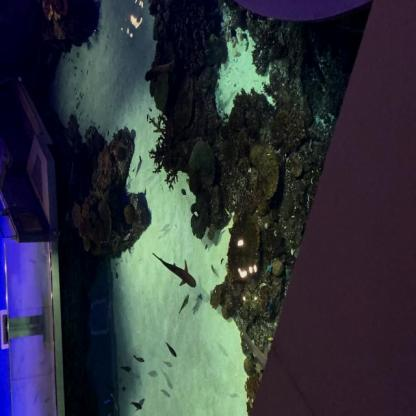fish: (178, 292, 192, 314), (166, 341, 177, 358), (130, 400, 144, 412), (119, 364, 132, 374), (132, 354, 145, 364)
shark: (151, 252, 197, 289)
